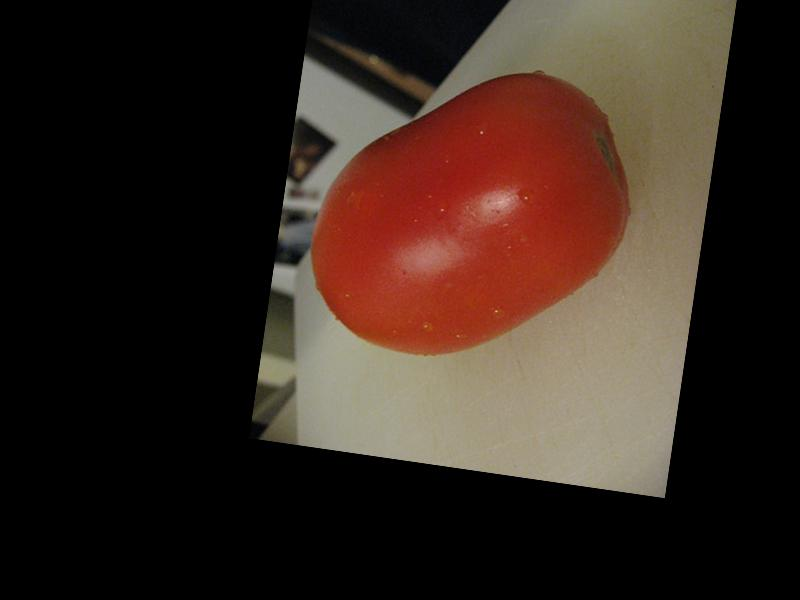Tomato: (296, 44, 645, 380)
